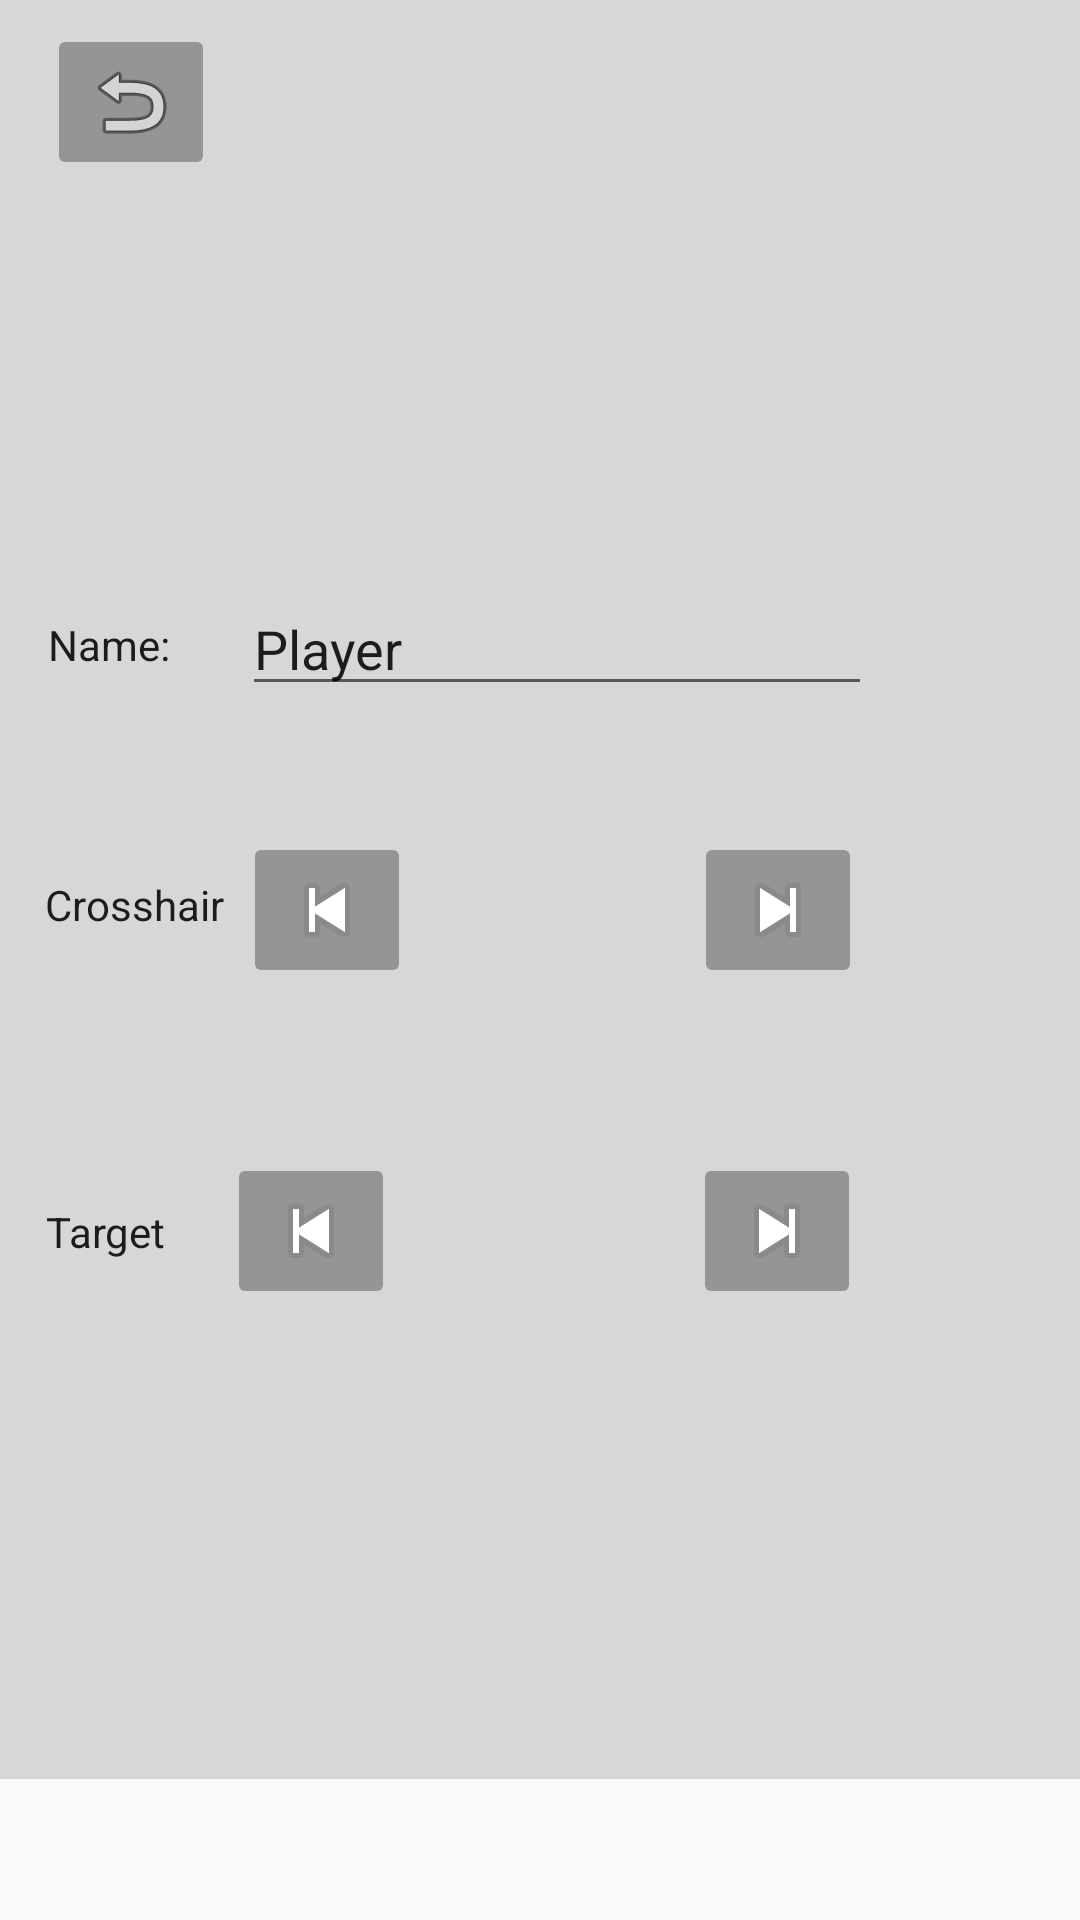

Point at icon controls on the screen. Image size 1080 × 1920, points as (x,y).
next: (778,910), (777,1231)
previous: (327,910), (311,1231)
revert: (131,102)
